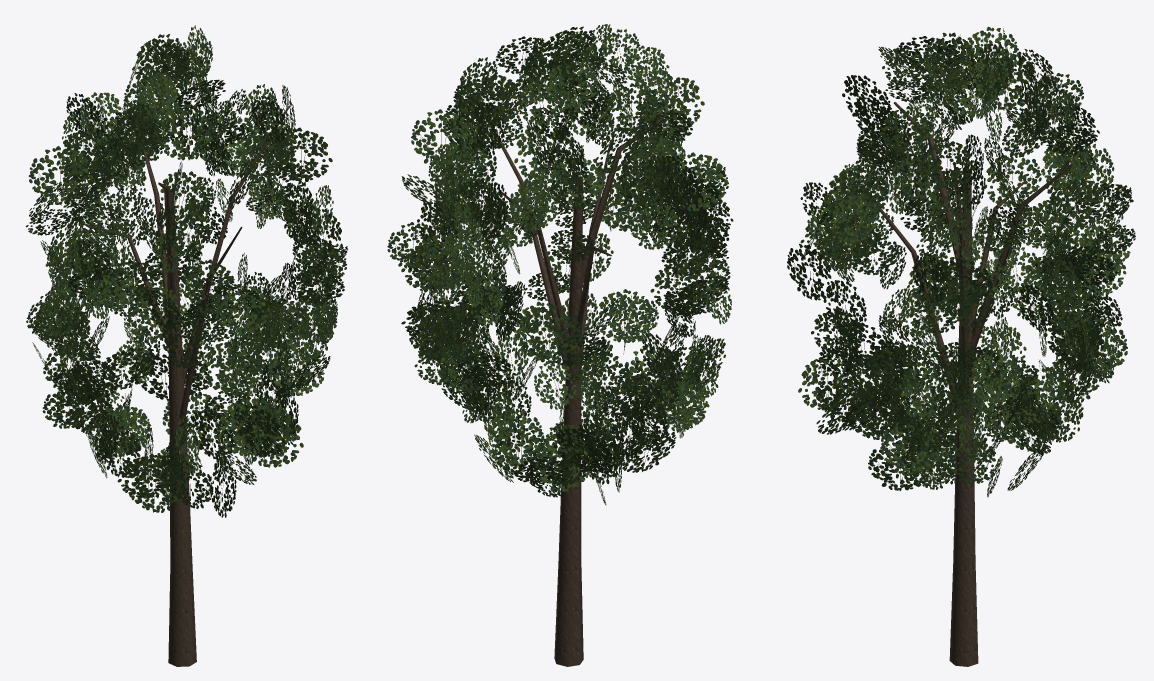
File: tpl_bog_alder_hi1.glb
3 renders of one model, left to right at view 1: azimuth 30°, elevation 25°; view 2: azimuth 150°, elevation 25°; view 3: azimuth 270°, elevation 25°, orthographic. The views are drawn at different scales.
Visible parts, largest first — view 1: tpl_bog_alder_hi1; view 2: tpl_bog_alder_hi1; view 3: tpl_bog_alder_hi1.
Part boxes in pixels (x1=…): tpl_bog_alder_hi1: x1=25, y1=25, x2=347, y2=666; tpl_bog_alder_hi1: x1=387, y1=24, x2=733, y2=666; tpl_bog_alder_hi1: x1=787, y1=26, x2=1135, y2=666.
Size of the model in its own units: 8.23 by 15.69 by 7.97.
2 materials, 2 textured.
